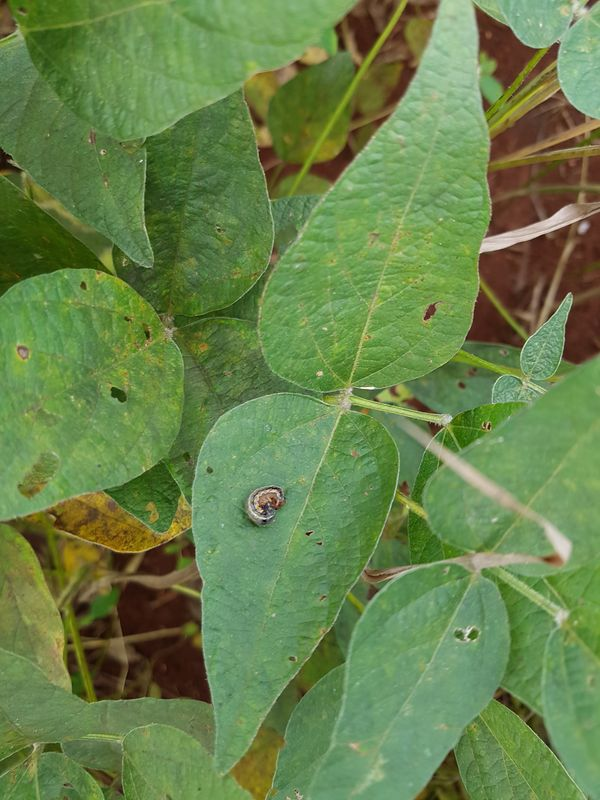Spodoptera_albula: (232, 477, 293, 538)
